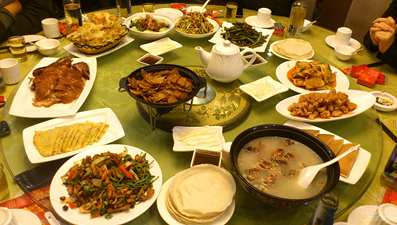food: (49, 136, 165, 222), (232, 117, 340, 206), (24, 50, 92, 115), (124, 59, 203, 114), (27, 108, 110, 159), (169, 161, 237, 223), (280, 87, 370, 123), (64, 6, 130, 54), (164, 118, 234, 161), (286, 55, 337, 92), (126, 7, 177, 41), (271, 36, 313, 61)
